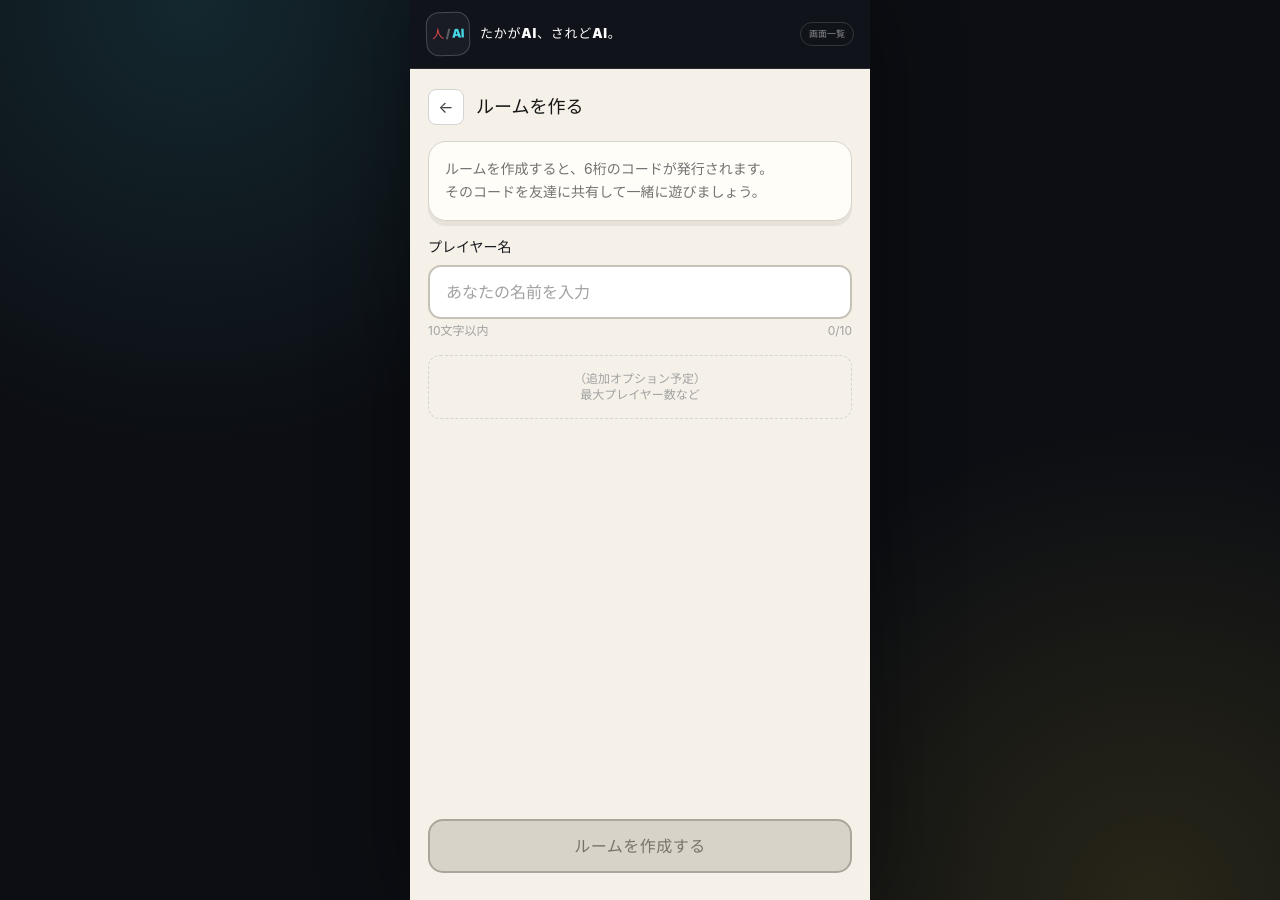
Test case: CreateRoomPage › API失敗時はセッションを変更せず、安全なエラーを表示する
Type "たけし" into the field with placeholder "あなたの名前を入力".
click(640, 292); type("たけし")  # box [428,264,852,318]
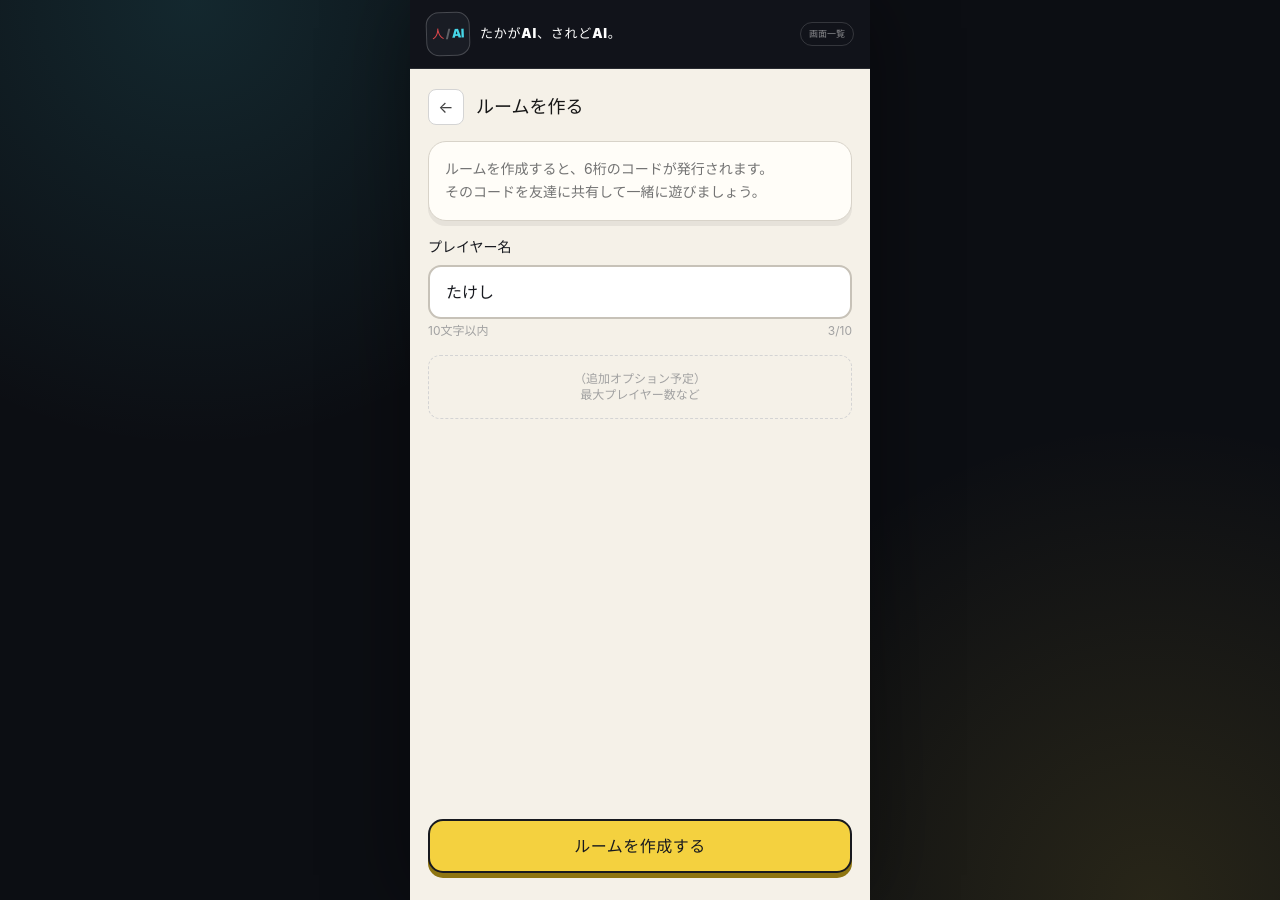
Click the button "ルームを作成する".
click(640, 846)  # box [428,819,852,873]
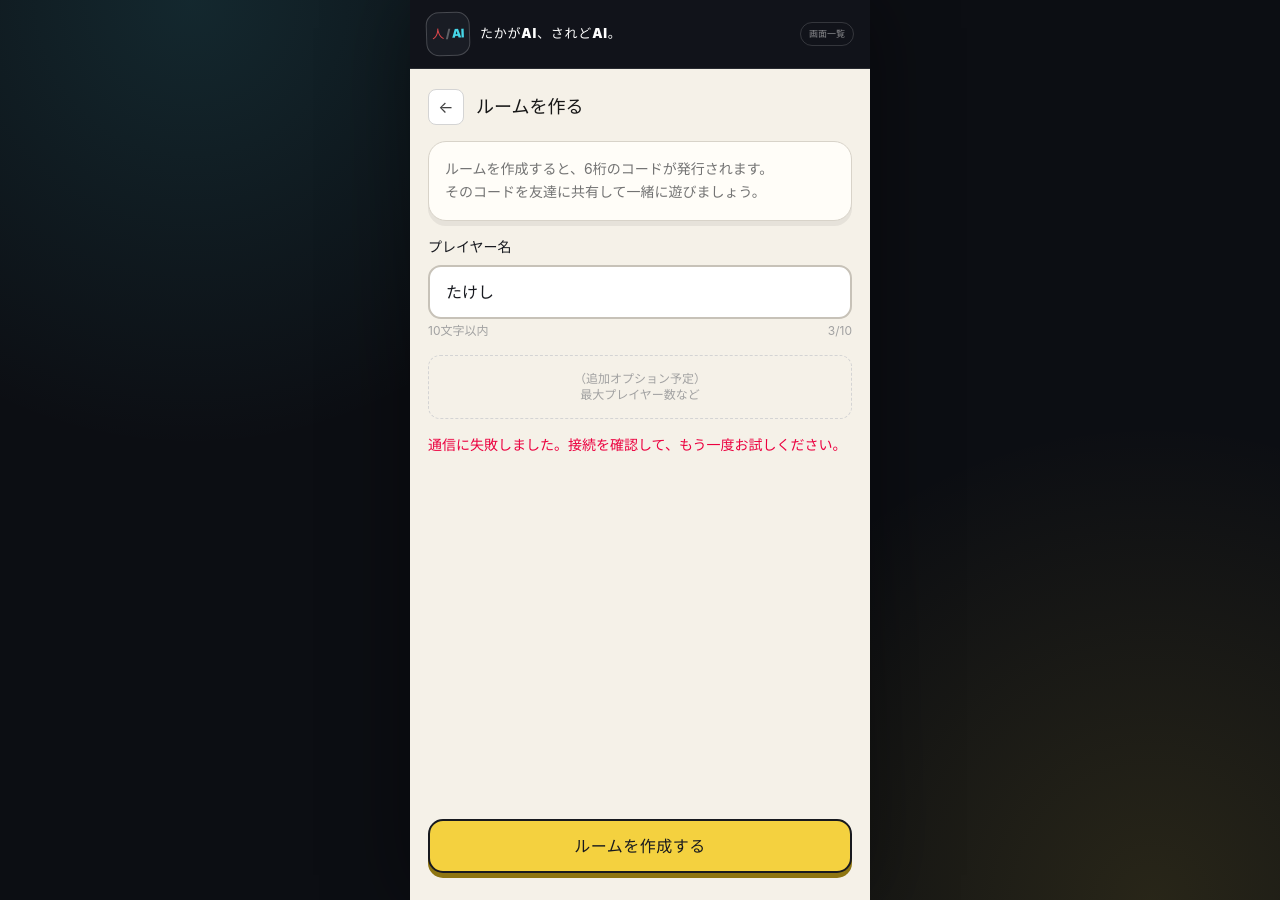
Result: the message reads "通信に失敗しました。接続を確認して、もう一度お試しください。" at [428,436,846,452]
